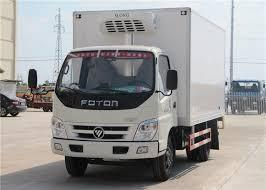truck: (24, 36, 186, 186)
